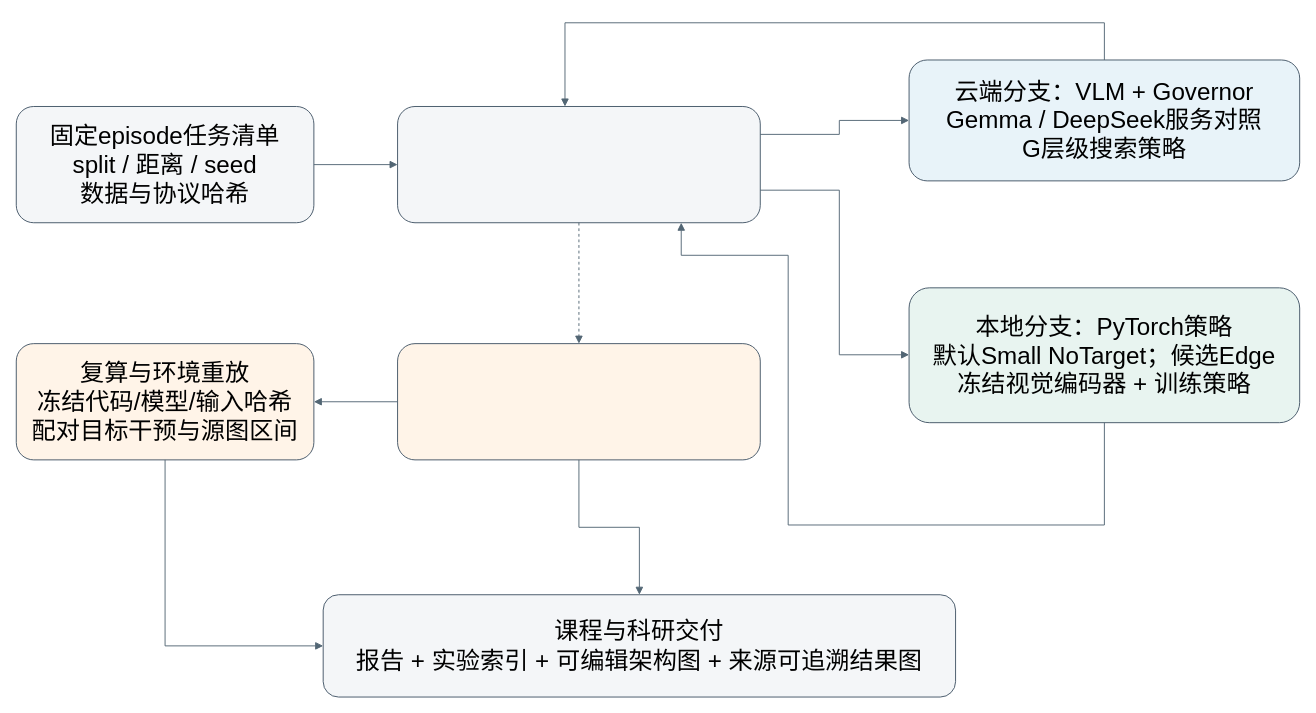
Image size: 1316x713. Some labels were removed from this diagram. Here are the shapes that lost their labels. From the top down, the centre of each, then its label:
At point 578,164: "部分可观测网格环境 5×5；四方向；B=10 公开观测与答案隔离".
At point 578,401: "统一评测与结构化日志 SR / SG / 完成率 / 重访 逐步动作与终态".
